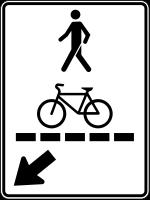Cycle Crossing: (18, 8, 138, 146)
